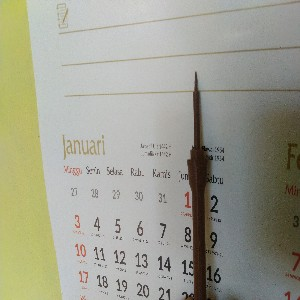solder: (186, 70, 210, 300)
